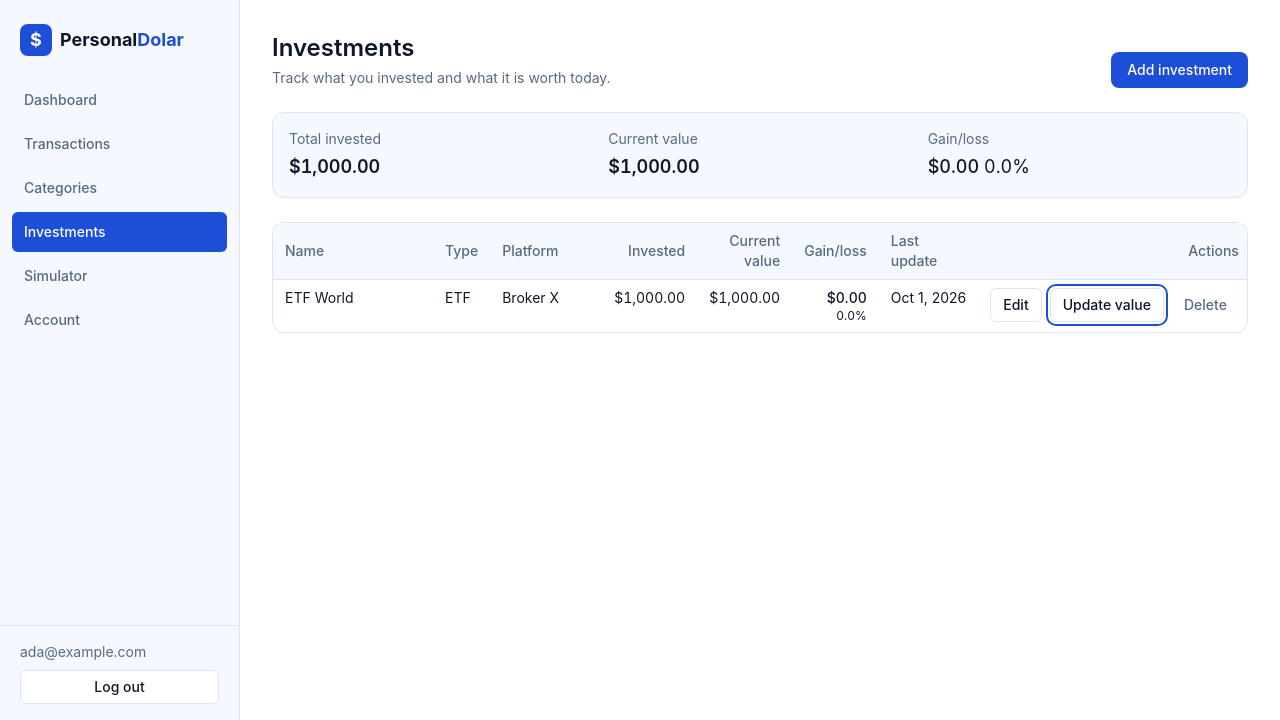
Test: saving a new value › sends the unchanged value too, and the last update moves to today
Expected: the table named "Investments" is shown, [273,223,1248,332]
Click the button with aria-label "Update value of ETF World" at {"x": 1107, "y": 305}, box [1050,288,1164,322]
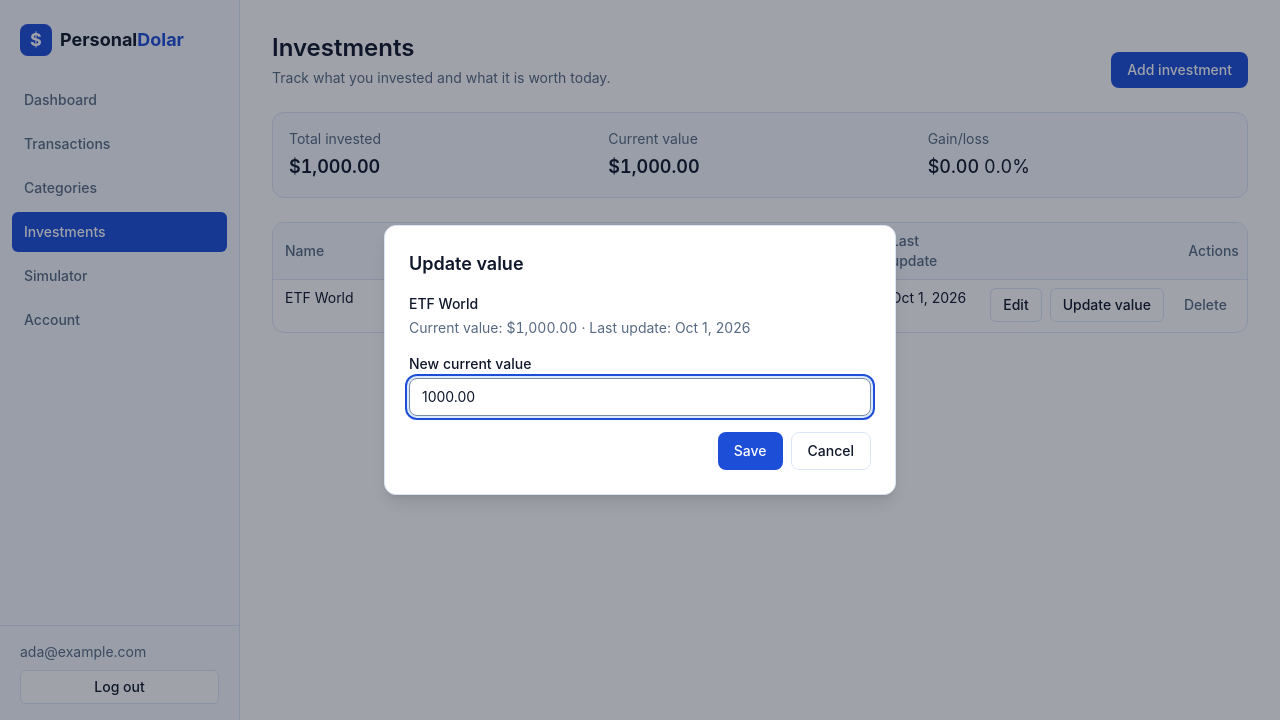
Click the button "Save" at {"x": 750, "y": 451}, box [718,432,782,470]
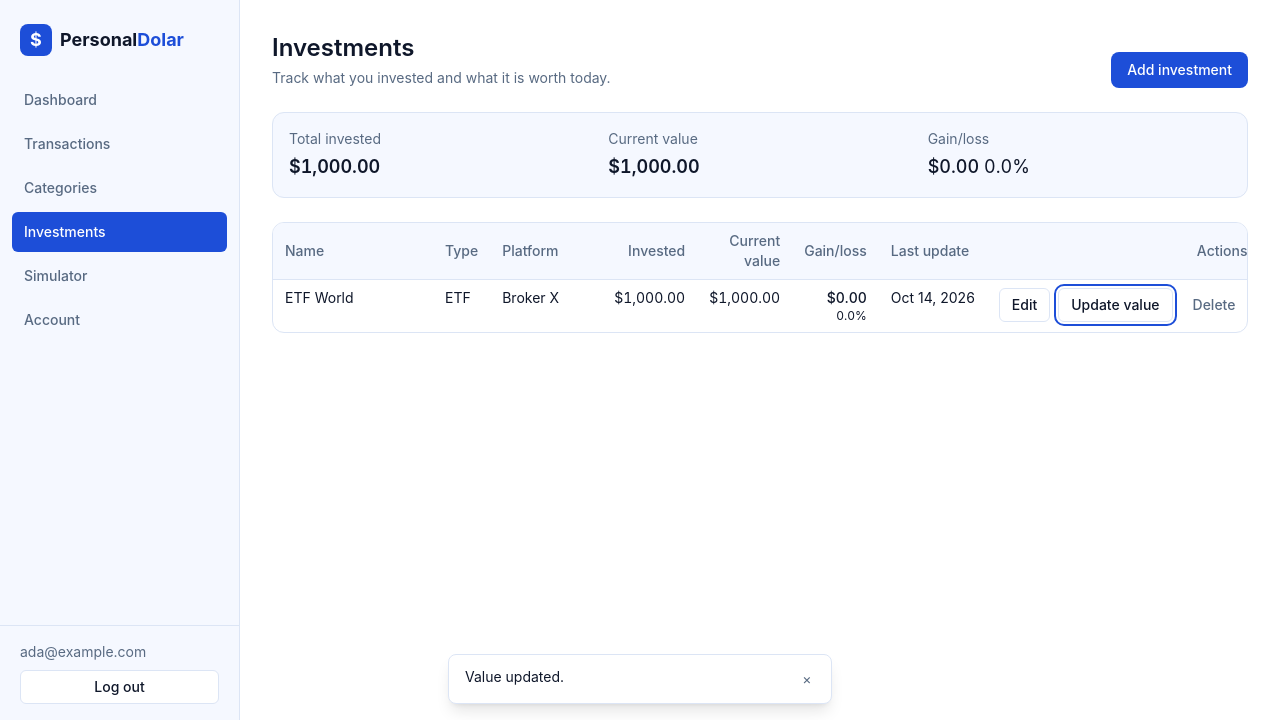
Expected: the text "Value updated." is shown, [465,668,564,685]
Expected: the cell "Oct 14, 2026" is shown, [879,280,987,332]
